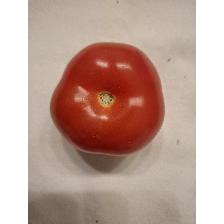Tomate: (48, 36, 168, 160)
